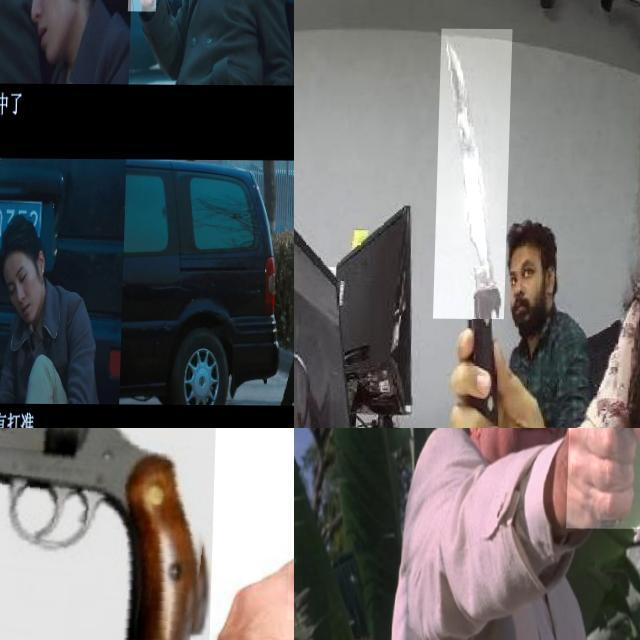-: (436, 29, 512, 319)
gun-knife-thesis - v11 Yolov5 augmented: (0, 428, 219, 640), (0, 428, 226, 582), (568, 428, 640, 541), (0, 0, 26, 72), (129, 0, 158, 31), (0, 248, 13, 310)
